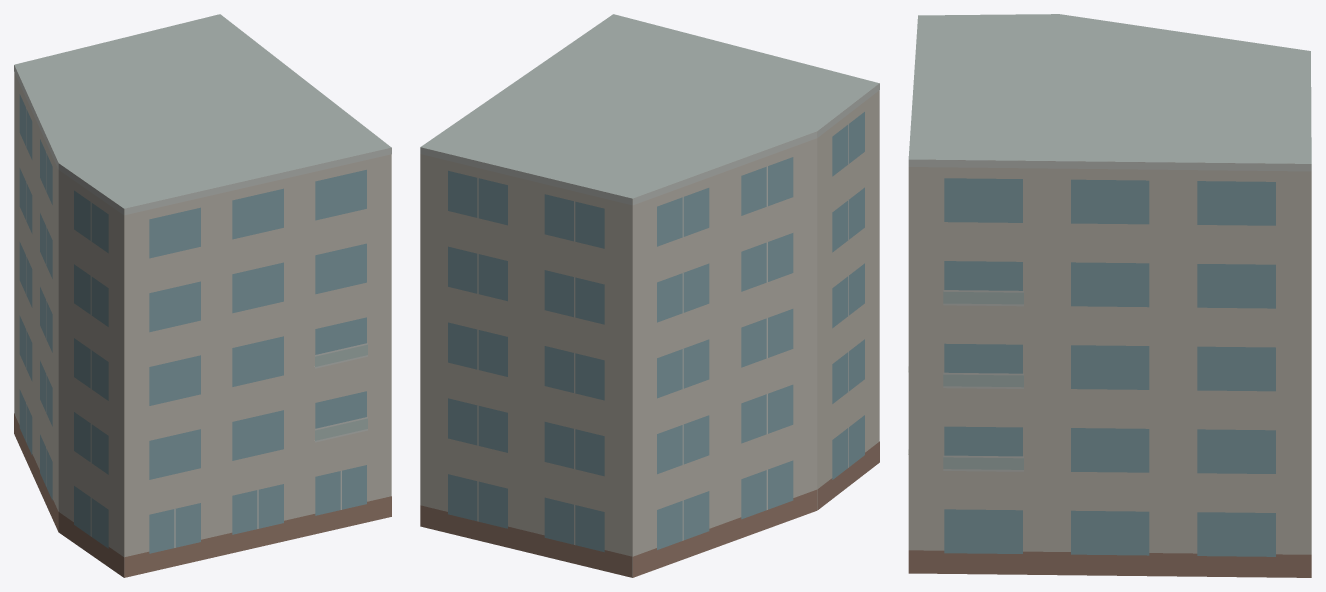
Rendered from survey-upis-32996550.glb.
3 views of the same model, side by side, from view 1: azimuth 30°, elevation 25°; view 2: azimuth 150°, elevation 25°; view 3: azimuth 270°, elevation 25° (orthographic). The views are drawn at different scales.
Visible parts, largest first — view 1: survey-upis-32996550.tmp; view 2: survey-upis-32996550.tmp; view 3: survey-upis-32996550.tmp.
Boxes of the visible parts, <box> form: survey-upis-32996550.tmp: <box>14,14,391,577</box>; survey-upis-32996550.tmp: <box>420,14,879,577</box>; survey-upis-32996550.tmp: <box>908,14,1311,577</box>.
Size of the model in its own units: 10.54 by 13.55 by 11.98.
